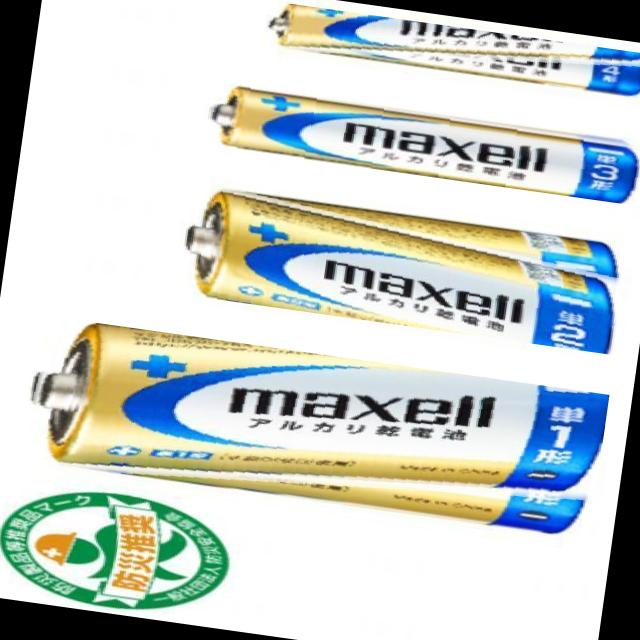Hazard: (16, 313, 610, 546), (178, 179, 630, 354), (203, 75, 640, 205), (261, 0, 640, 104)
